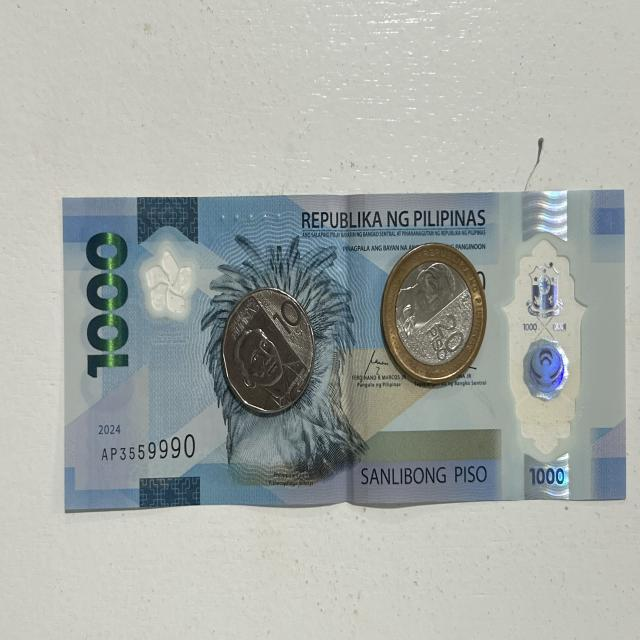10_New_Front: (273, 294, 306, 342)
20_New_Front: (421, 303, 471, 368)
serial_number: (90, 423, 207, 468)
